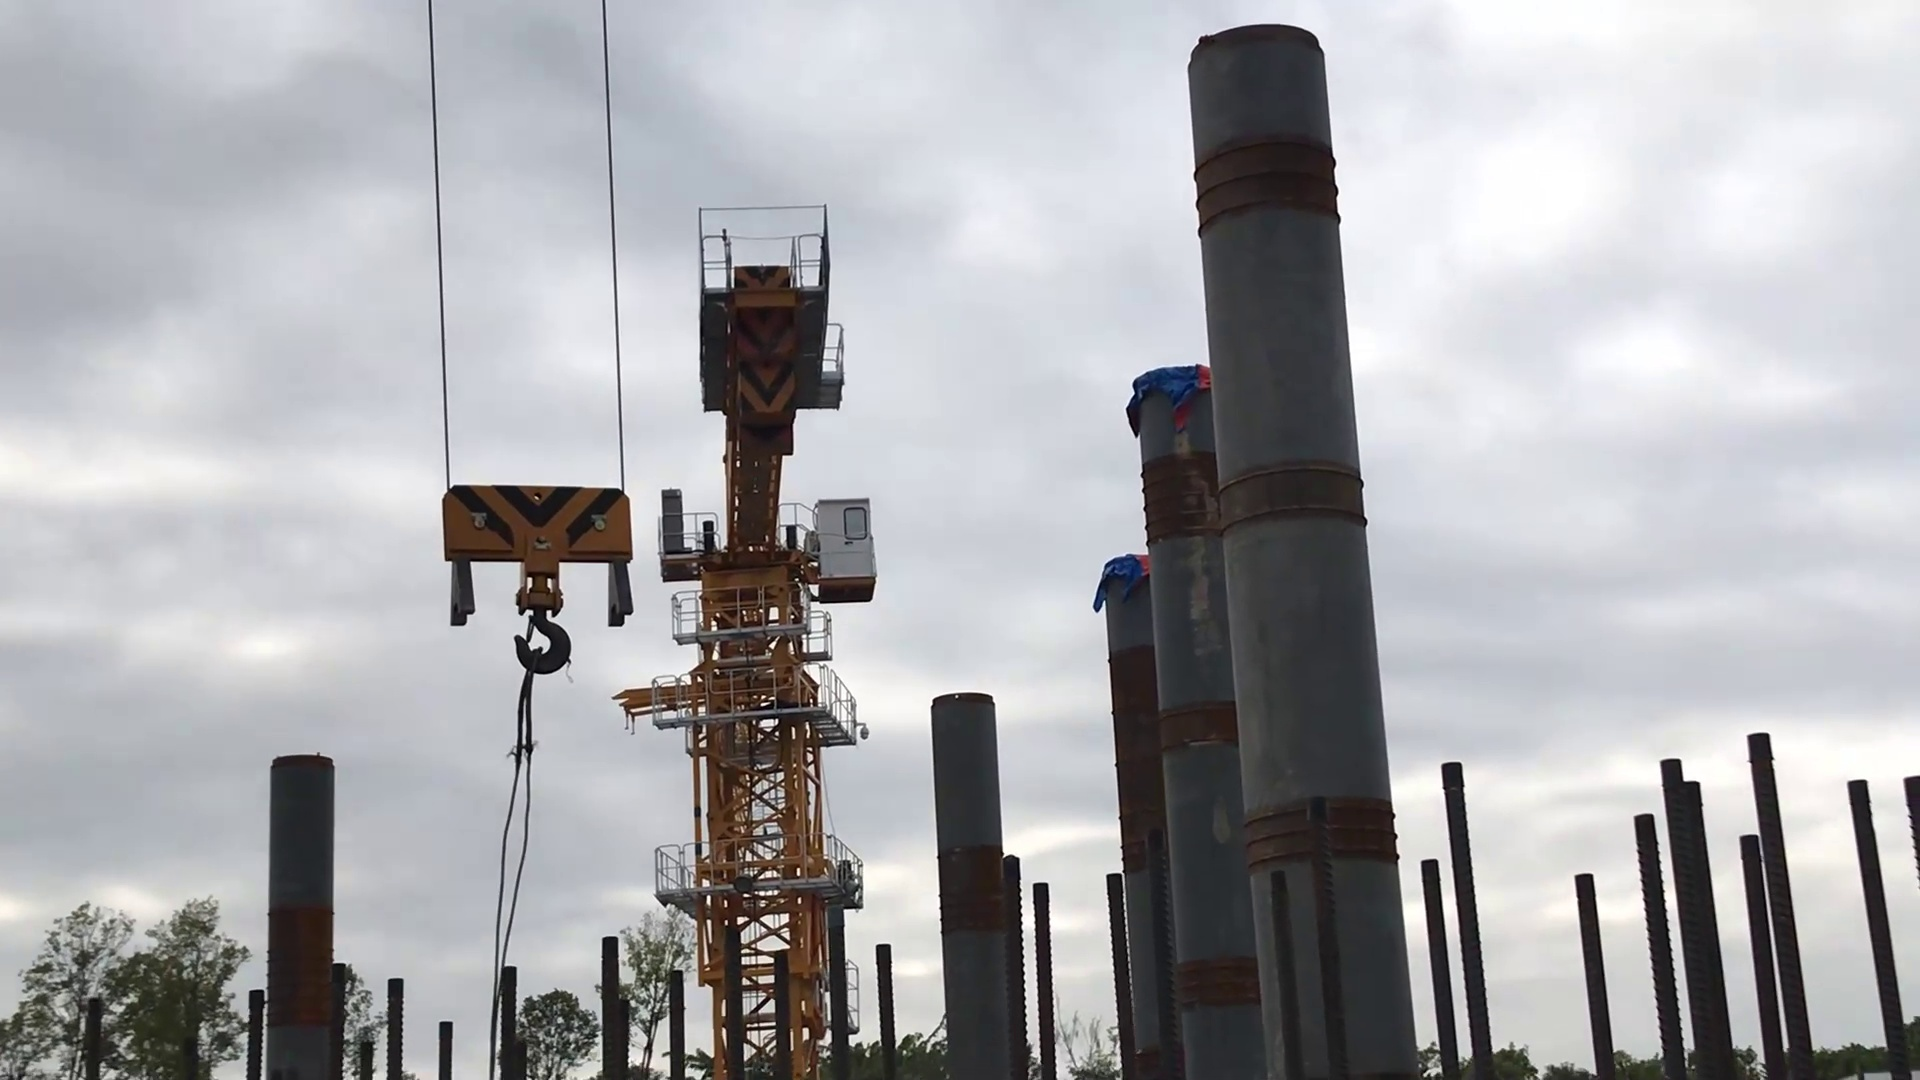hook: (429, 473, 640, 684)
